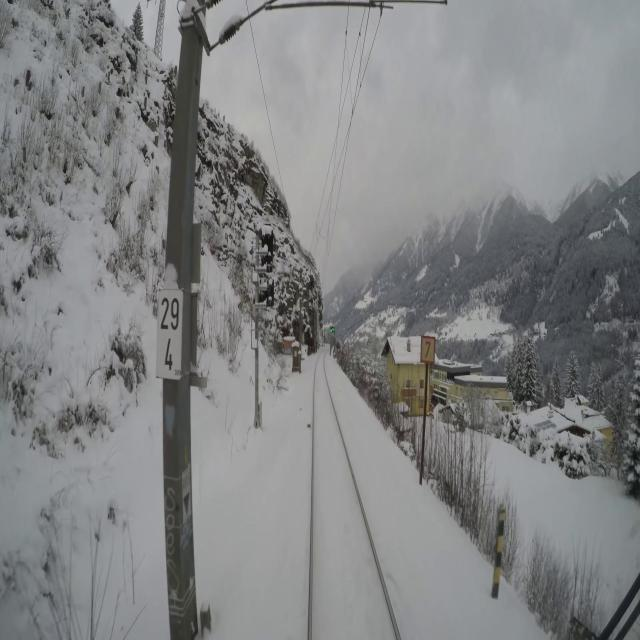rail-track: (313, 353, 395, 639)
